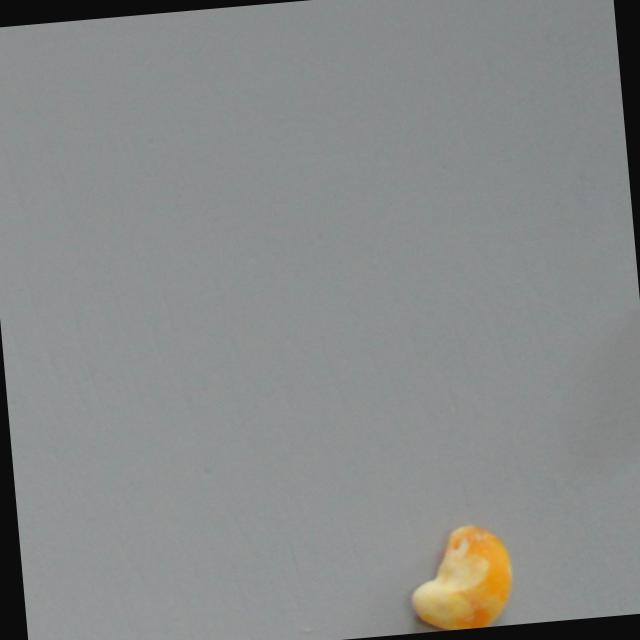pelicula: (404, 524, 518, 633)
